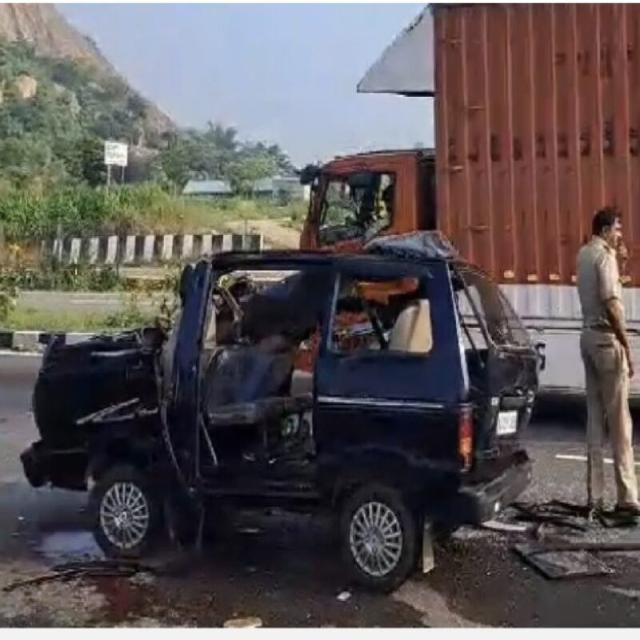accident: (21, 233, 539, 589)
truck: (301, 3, 640, 392)
